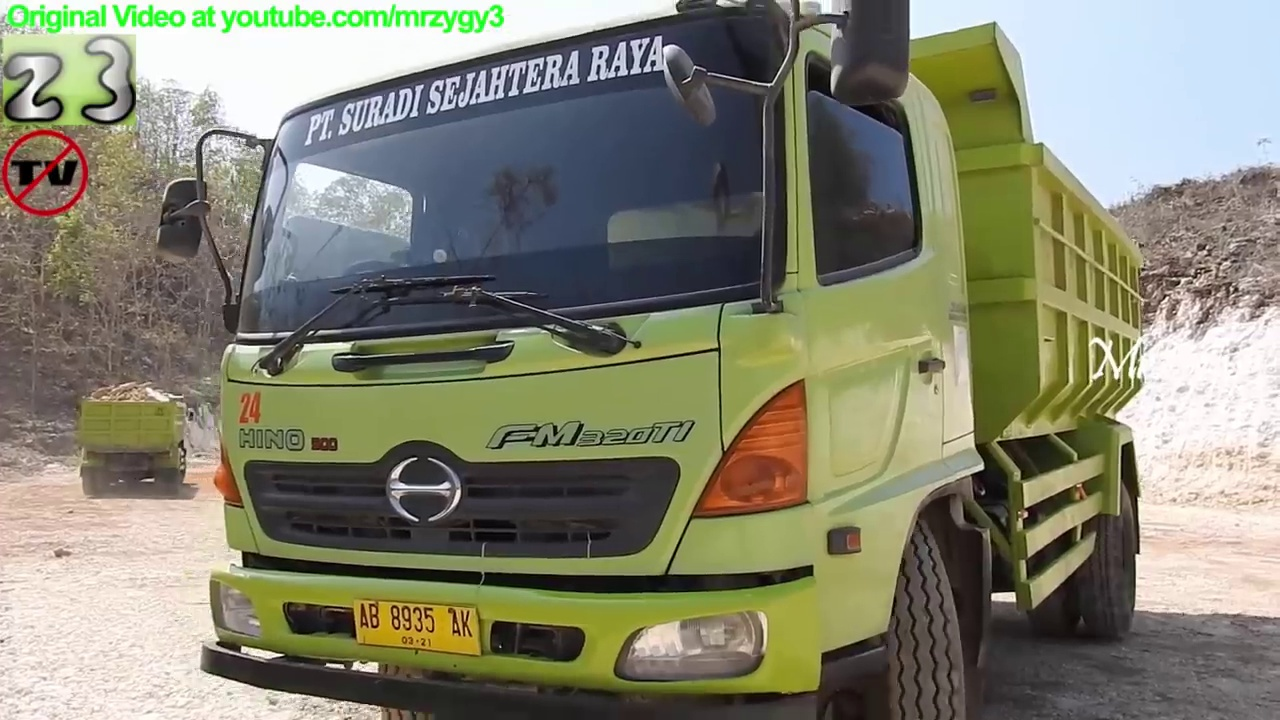truck: (147, 1, 1157, 720), (74, 388, 196, 499)
